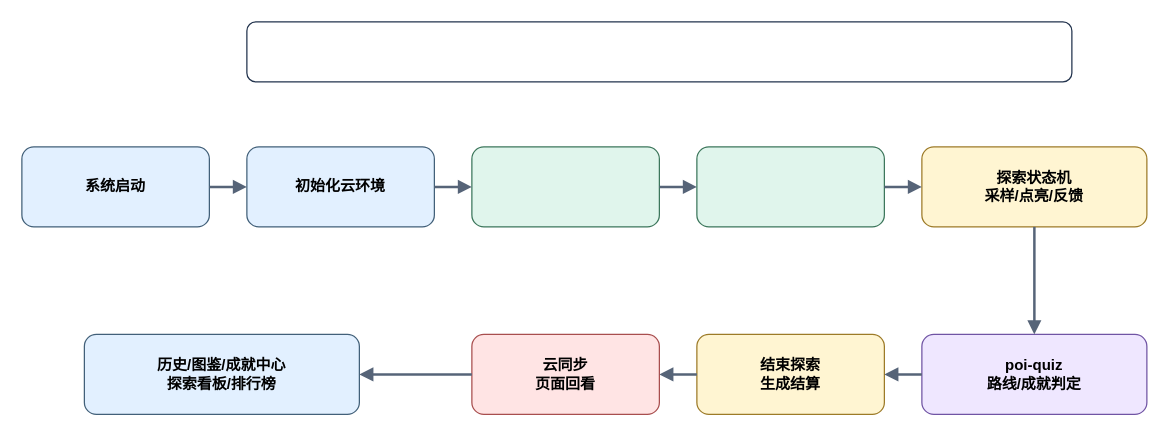
Image size: 1169x436. Some labels were removed from this diagram. Each missing label, with the centre of its shape:
加载缓存 云端进度: the point at 790,186
系统流程图: the point at 659,51
进入首页地图: the point at 565,186
